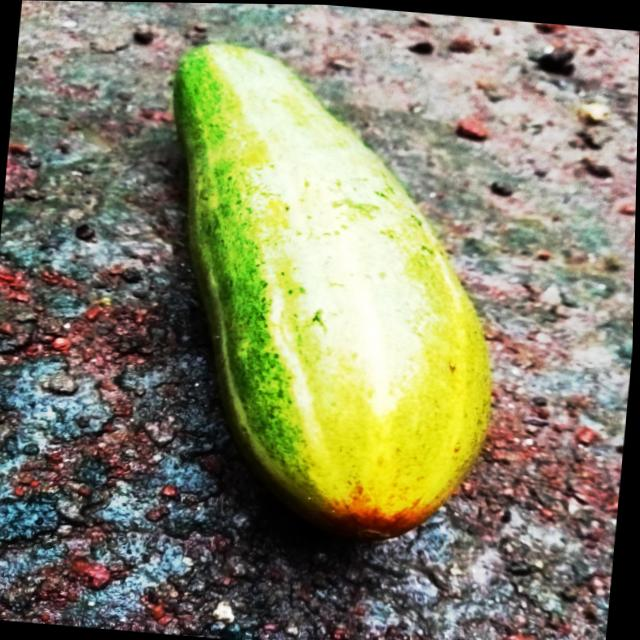Fresh-Cucumber: (132, 36, 526, 543)
